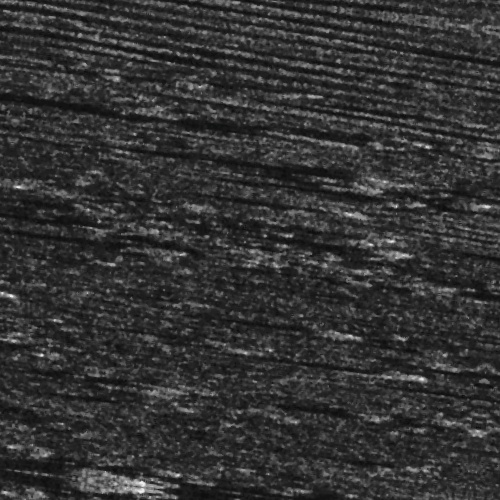object: (322, 212, 395, 229), (95, 486, 210, 495), (301, 315, 374, 322), (311, 193, 374, 200), (360, 228, 423, 235), (116, 258, 179, 263), (0, 318, 33, 327), (397, 350, 450, 355)
shadow: (0, 488, 500, 495), (176, 212, 358, 229), (2, 495, 500, 500), (0, 486, 152, 495), (247, 350, 423, 355), (220, 193, 342, 200), (217, 315, 338, 322), (272, 228, 391, 235), (20, 258, 147, 263)
